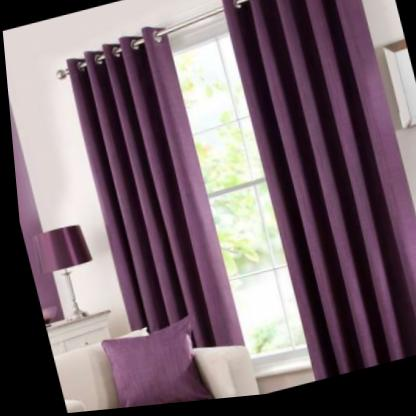Curtains: (221, 0, 416, 386), (64, 30, 238, 351)
